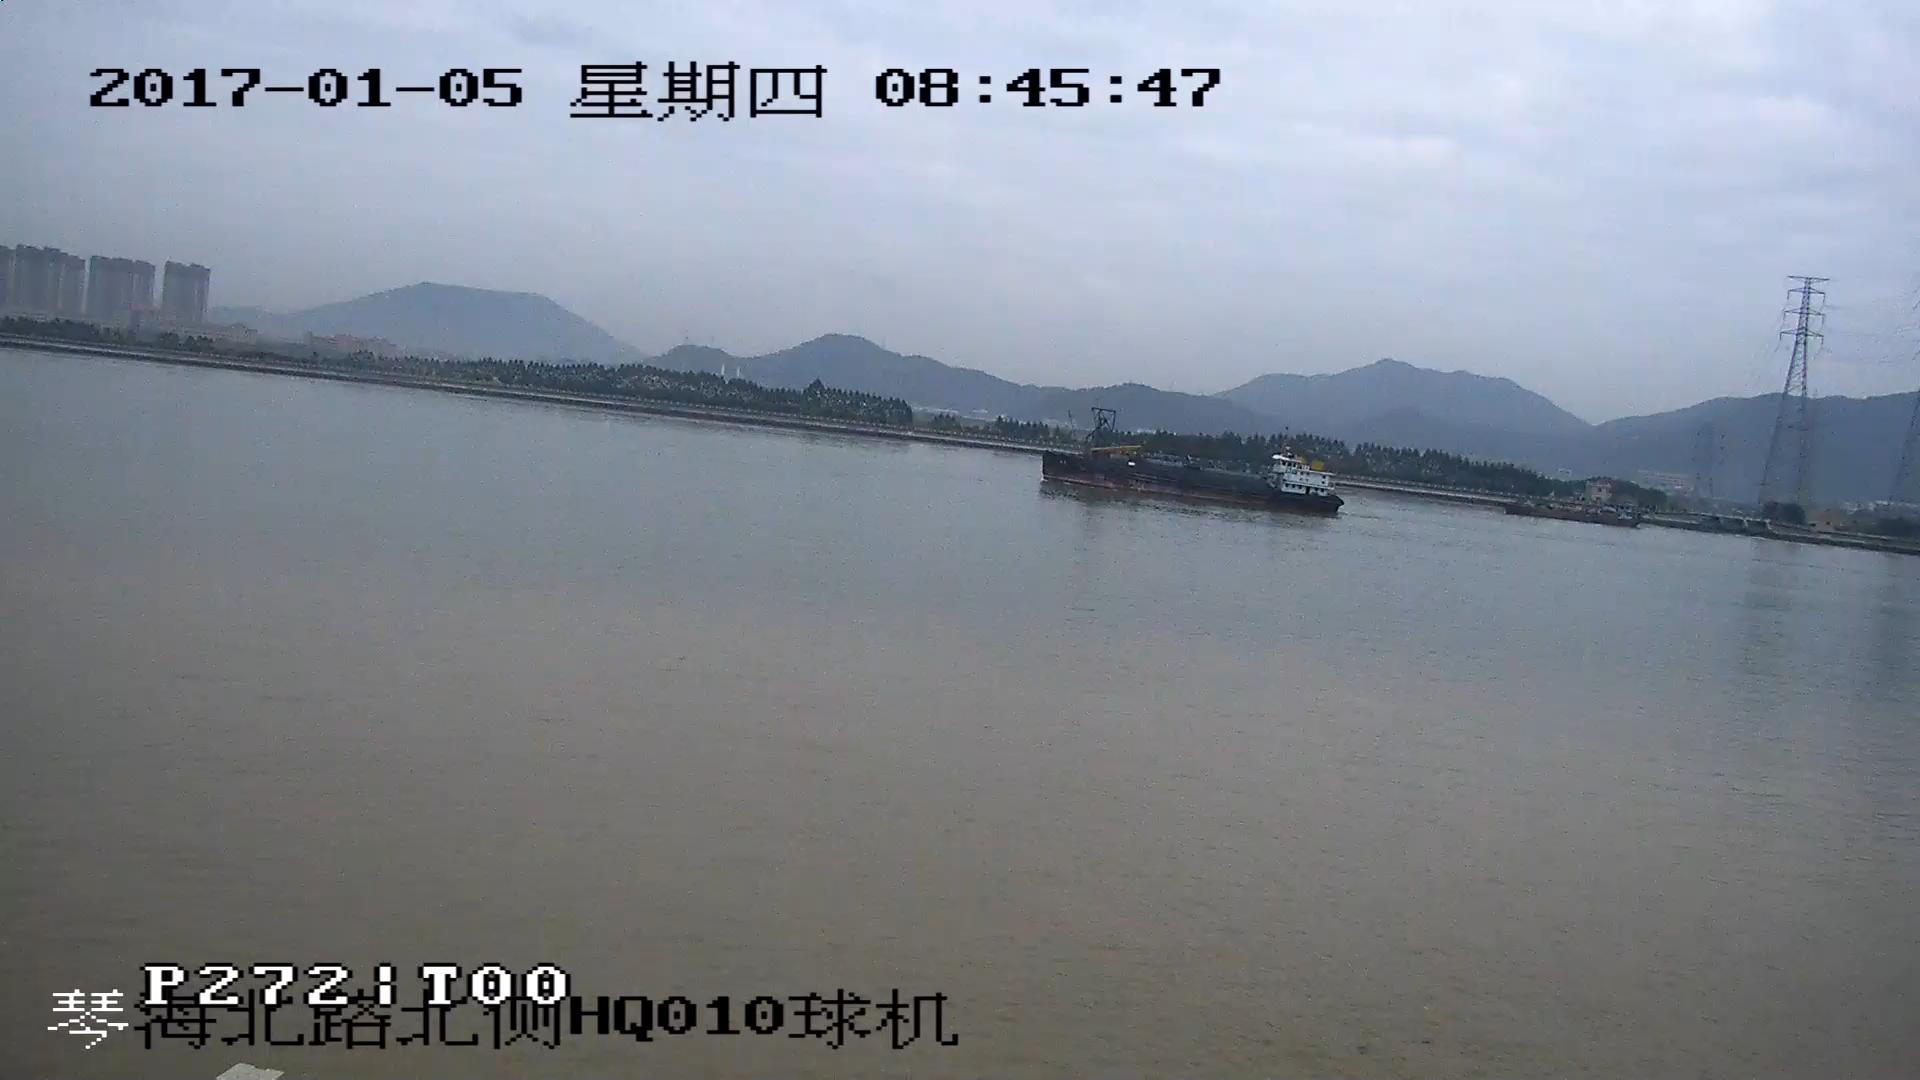bulk cargo carrier: (1036, 409, 1333, 521)
